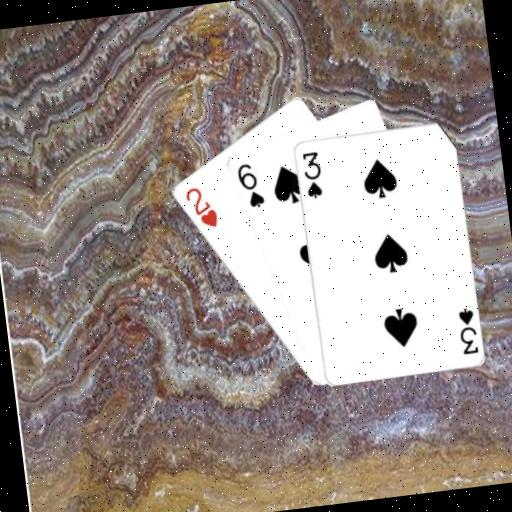2H: (181, 182, 220, 233)
3S: (298, 148, 325, 201), (453, 304, 480, 357)
6S: (233, 158, 267, 212)
